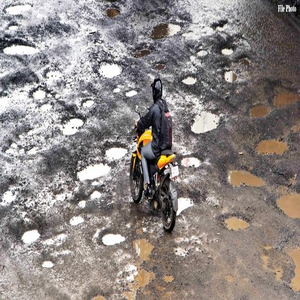pothole: (245, 83, 299, 124), (222, 165, 267, 193), (184, 108, 225, 136), (251, 133, 291, 161), (1, 34, 41, 60), (149, 17, 185, 45), (93, 53, 127, 79), (75, 160, 113, 182), (219, 210, 256, 232), (102, 140, 133, 164), (58, 112, 85, 135), (98, 228, 125, 248), (18, 225, 43, 246), (177, 152, 204, 170)
